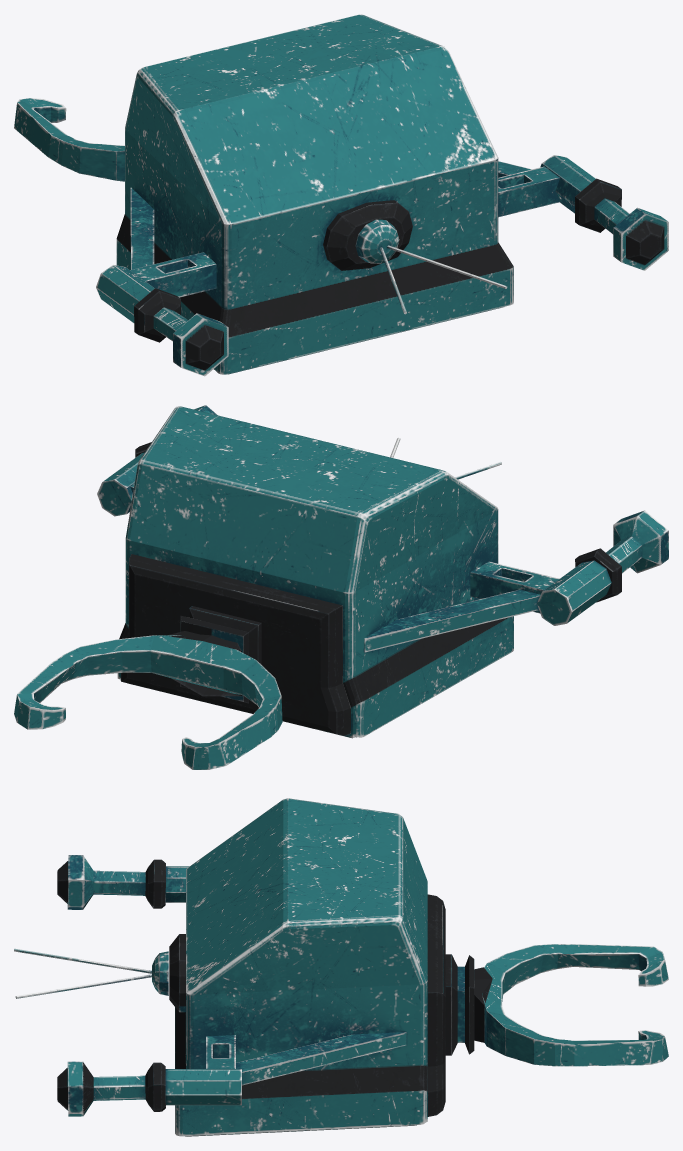
The model's file is TVNoBlades.gltf.
3 views of the same model, one above another, from view 1: azimuth 30°, elevation 25°; view 2: azimuth 150°, elevation 25°; view 3: azimuth 270°, elevation 25° (orthographic). The views are drawn at different scales.
Visible parts, largest first — view 1: Cube.028; view 2: Cube.028; view 3: Cube.028.
Part boxes in pixels (bbox=[...]): Cube.028: bbox=[14, 14, 668, 376]; Cube.028: bbox=[14, 405, 668, 769]; Cube.028: bbox=[14, 798, 668, 1136].
Bounding box in the file's own units: 1.77 × 0.7649 × 2.15.
Materials: 2 (2 with a texture image).
